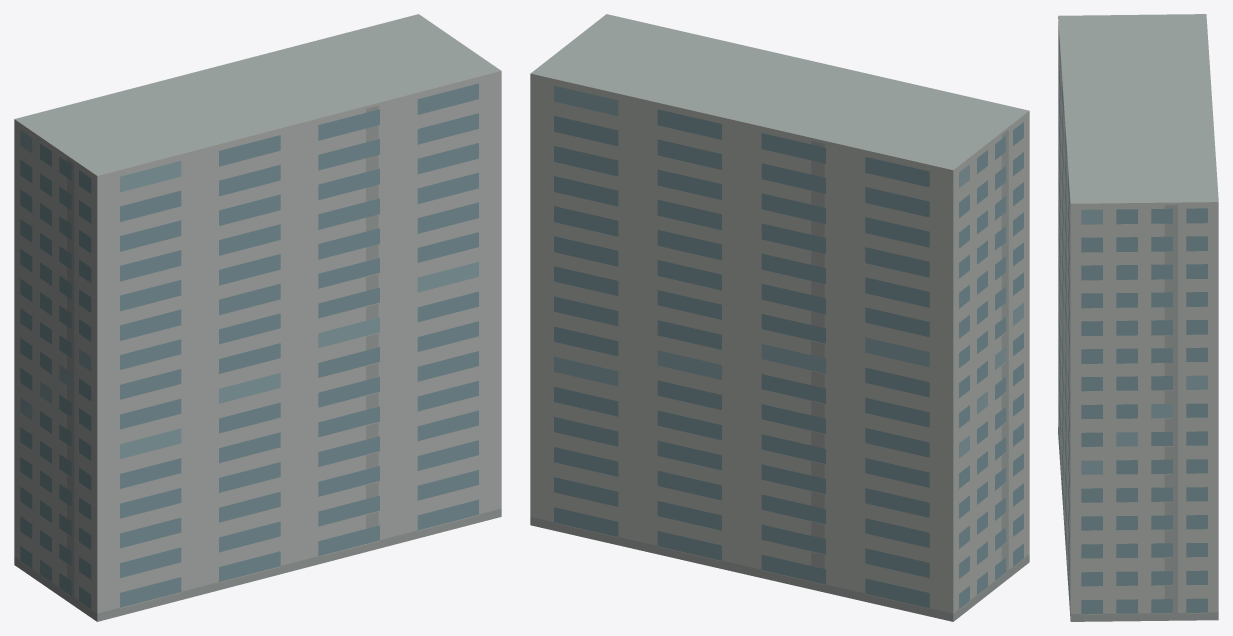
File: residential-ec53b7e3-696e-445e-b0cb-f72d2df80ff8.glb
The picture shows the model from 3 angles, left to right: view 1: azimuth 30°, elevation 25°; view 2: azimuth 150°, elevation 25°; view 3: azimuth 270°, elevation 25°; orthographic projection. The views are drawn at different scales.
Parts seen in each view (by area): view 1: residential-ec53b7e3-696e-445e-b0cb-f72d2df80ff8.tmp; view 2: residential-ec53b7e3-696e-445e-b0cb-f72d2df80ff8.tmp; view 3: residential-ec53b7e3-696e-445e-b0cb-f72d2df80ff8.tmp.
Boxes of the visible parts, x1,y1,x2,y2 form: residential-ec53b7e3-696e-445e-b0cb-f72d2df80ff8.tmp: (14,14,501,621); residential-ec53b7e3-696e-445e-b0cb-f72d2df80ff8.tmp: (530,14,1029,621); residential-ec53b7e3-696e-445e-b0cb-f72d2df80ff8.tmp: (1058,14,1218,621).
Bounding box in the file's own units: 38.95 × 40 × 13.94.
